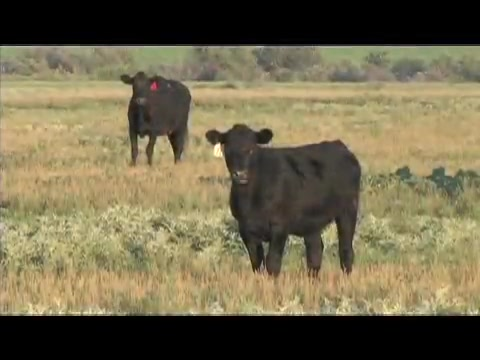cow: (206, 123, 362, 278), (119, 69, 193, 170)
